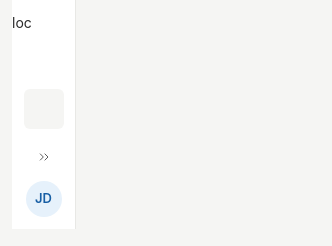
Test: NavRail › opens the account menu from the avatar, headed by the user's name
The width and height of the screenshot is (332, 246).
Click the button with aria-label "Account and settings".
click(44, 199)  # box [26,181,62,217]
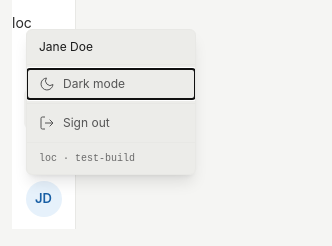
Expected: the menu shows "Jane Doe", [39,39,93,54]
Expected: the menu item "Sign out" is shown, [27,108,195,138]
